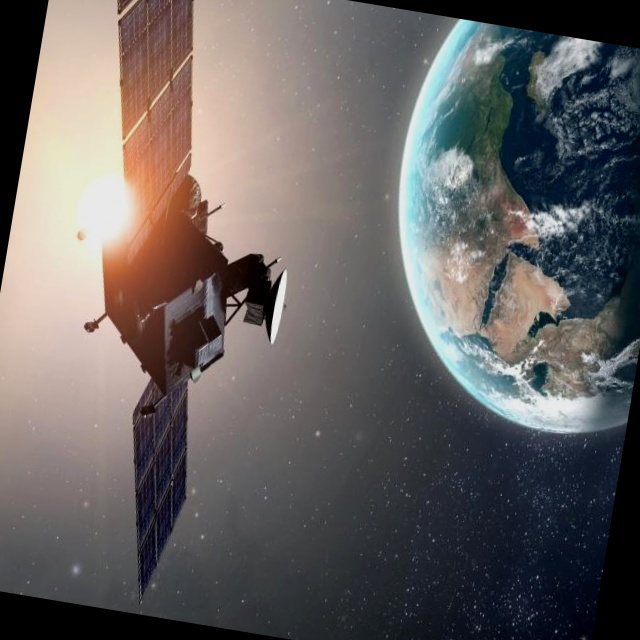medium_debris: (7, 0, 342, 620)
